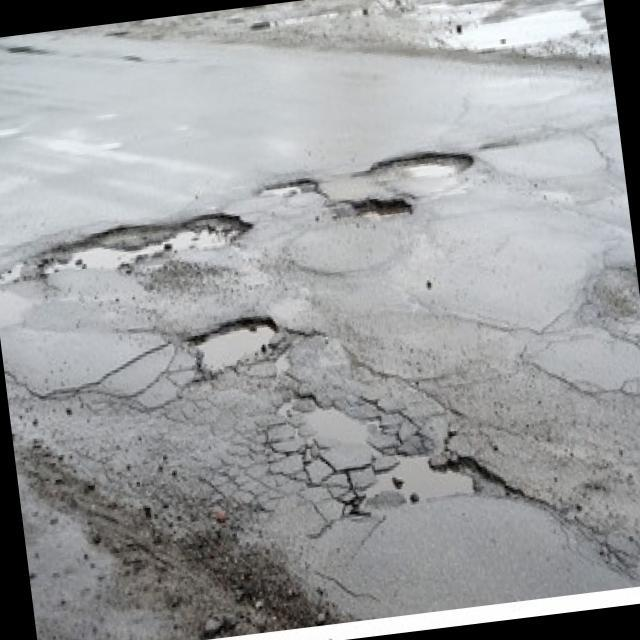Pothole: (41, 203, 260, 276), (361, 443, 483, 510), (184, 306, 286, 382), (287, 387, 378, 452), (362, 146, 476, 188), (347, 192, 414, 228), (254, 176, 320, 201)
